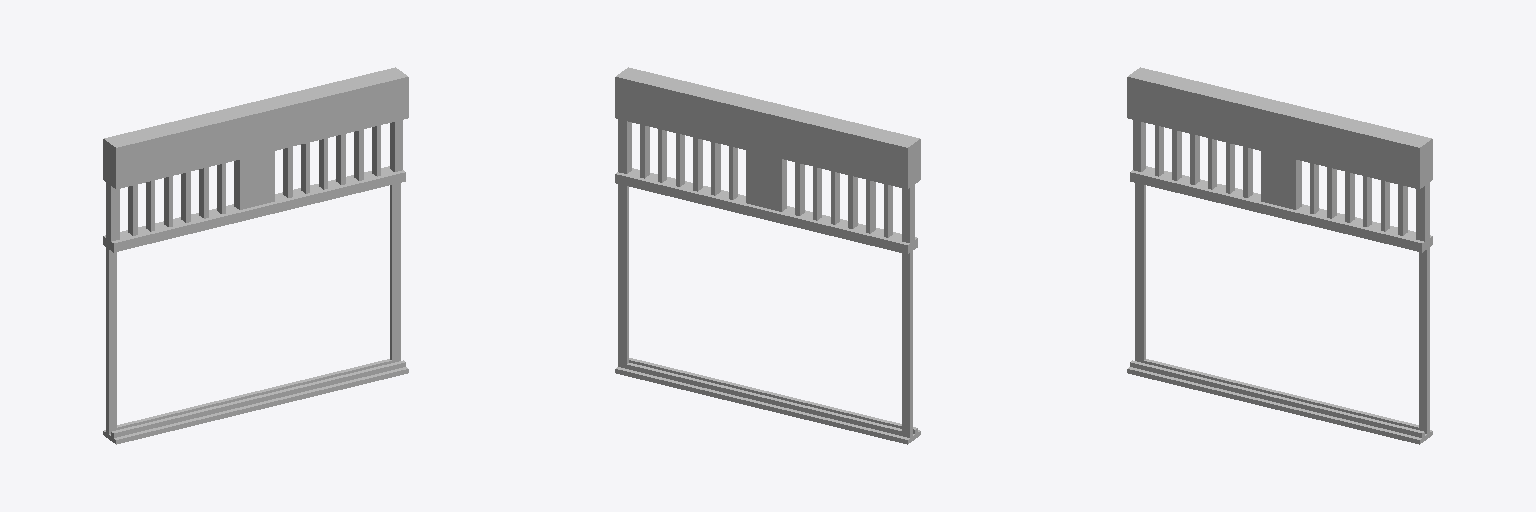
File: BarsEntranceLarge.obj
3 renders of one model, left to right at view 1: azimuth 30°, elevation 25°; view 2: azimuth 150°, elevation 25°; view 3: azimuth 330°, elevation 25°, orthographic.
Parts seen in each view (by area): view 1: BarsEntranceLarge; view 2: BarsEntranceLarge; view 3: BarsEntranceLarge.
Boxes of the visible parts, x1,y1,x2,y2 form: BarsEntranceLarge: [103, 67, 408, 444]; BarsEntranceLarge: [615, 67, 920, 444]; BarsEntranceLarge: [1127, 67, 1432, 444].
Size of the model in its own units: 66 by 64 by 5.